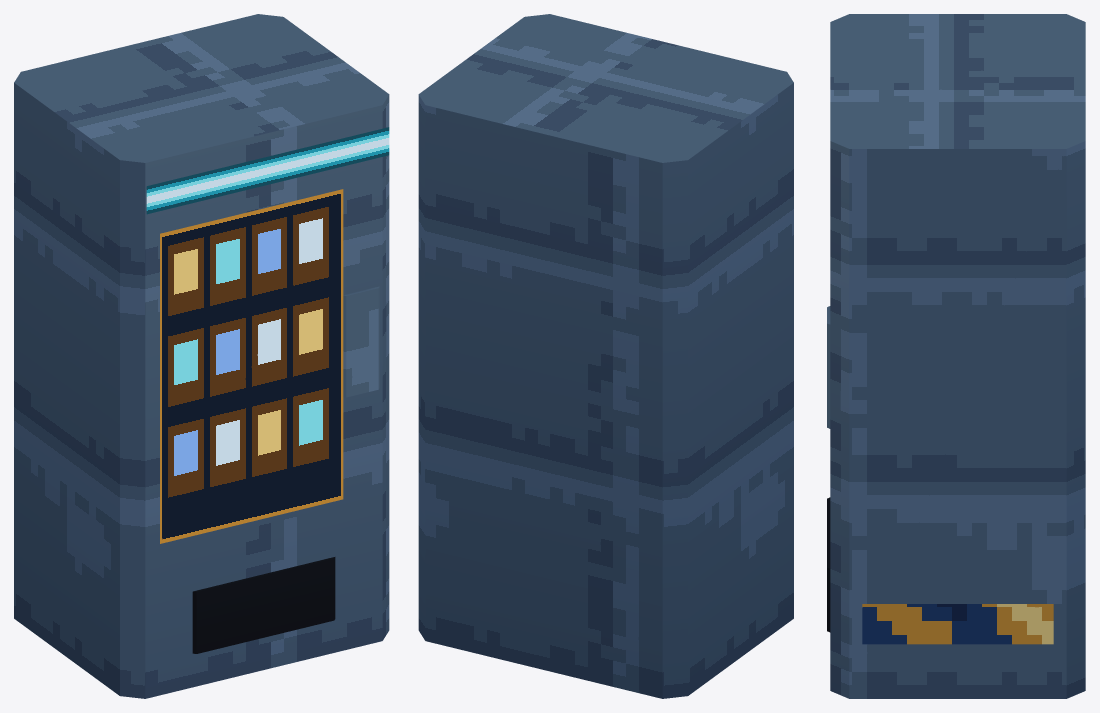
Rendered from cytech.vending.glb.
3 renders of one model, left to right at view 1: azimuth 30°, elevation 25°; view 2: azimuth 150°, elevation 25°; view 3: azimuth 270°, elevation 25°, orthographic. The views are drawn at different scales.
Parts seen in each view (by area): view 1: kit_body, kit_card_front; view 2: kit_body; view 3: kit_body, kit_card_front.
Boxes of the visible parts, left/top/right/bottom form: kit_body: left=14, top=14, right=389, bottom=698; kit_card_front: left=146, top=127, right=389, bottom=543; kit_body: left=418, top=14, right=793, bottom=698; kit_body: left=827, top=14, right=1085, bottom=698; kit_card_front: left=862, top=604, right=1053, bottom=644.
Bounding box in the file's own units: 1.02 × 1.9 × 0.825.
6 materials, 6 textured.
